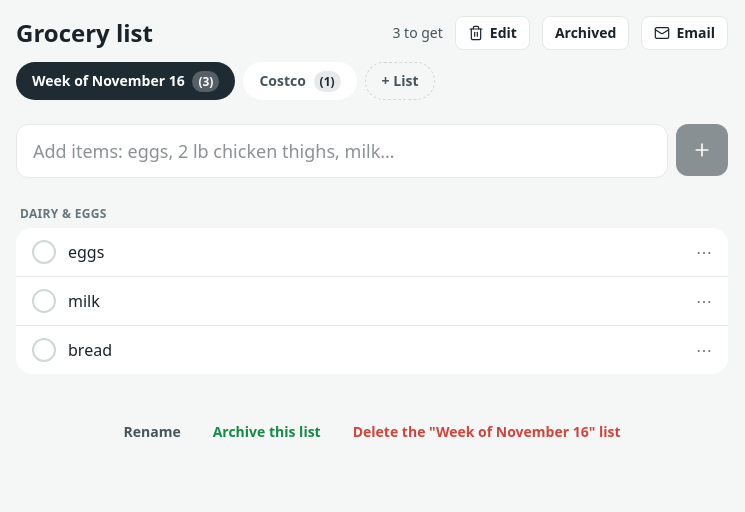
Test: grocery list: edit mode › switching to another list leaves edit mode
Click the button with aria-label "Select items to delete".
click(492, 33)  # box [455, 16, 530, 50]
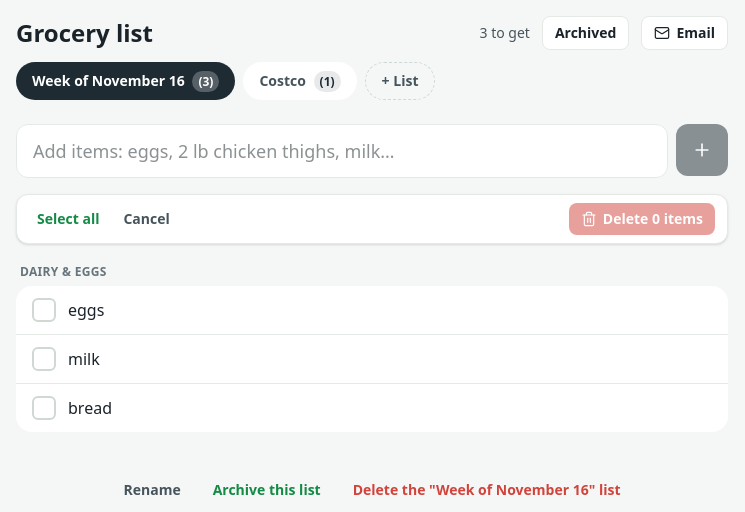
Click the checkbox named "Select eggs".
click(86, 310)  # box [16, 286, 728, 334]
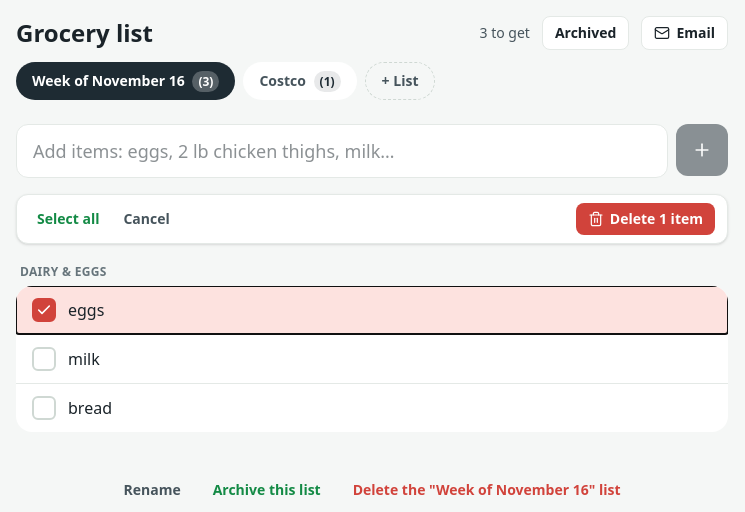
Click the button "Costco (1)".
click(300, 81)  # box [243, 62, 357, 100]
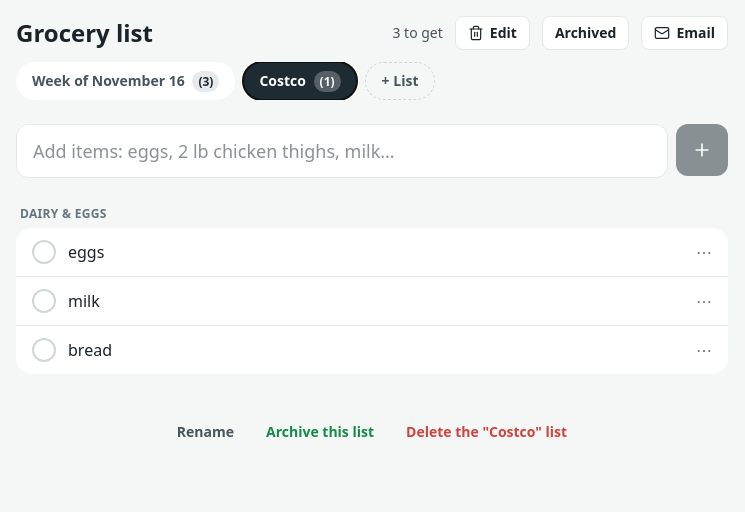
Now the button "Select " is gone
